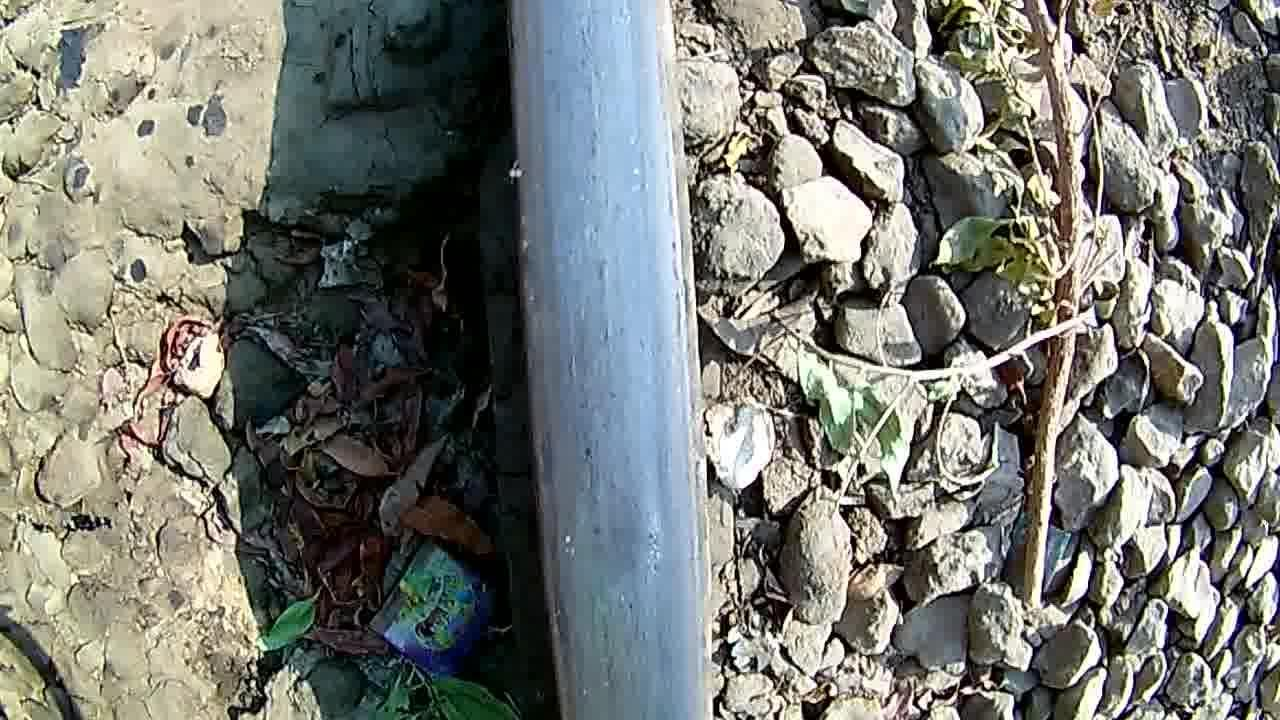crack: (526, 295, 708, 720)
